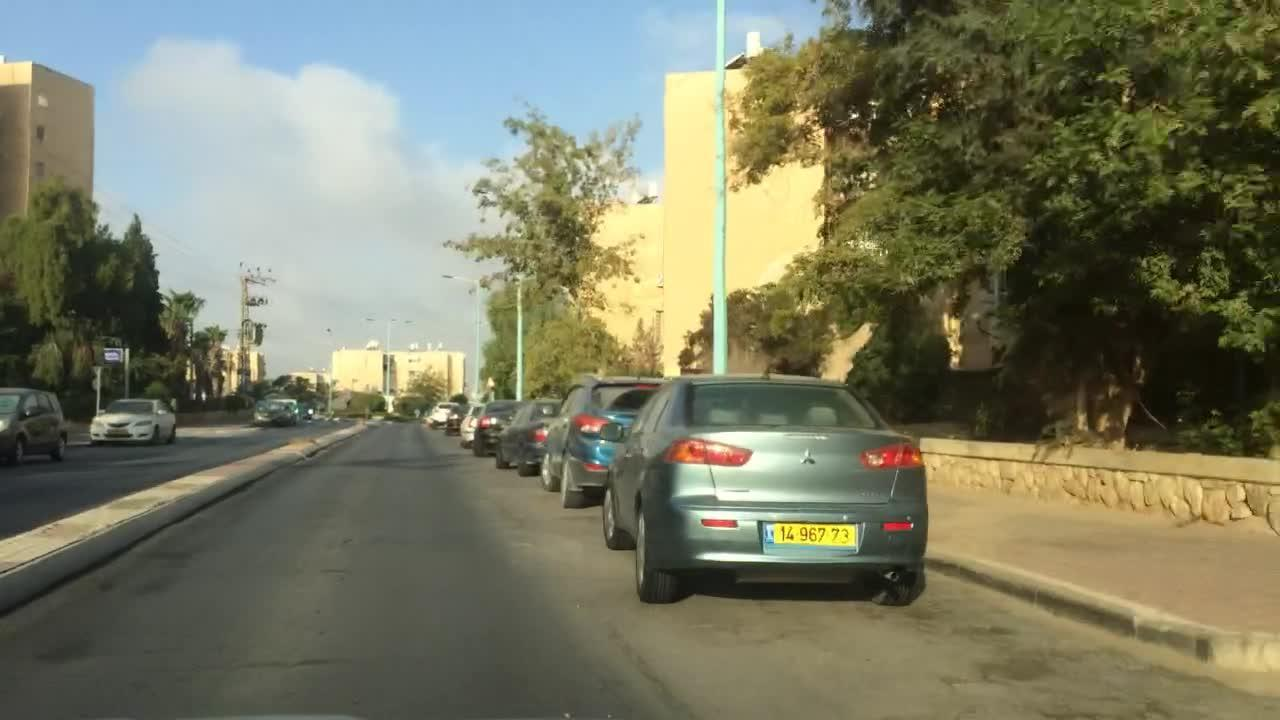Mitsubishi: (796, 444, 821, 475)
